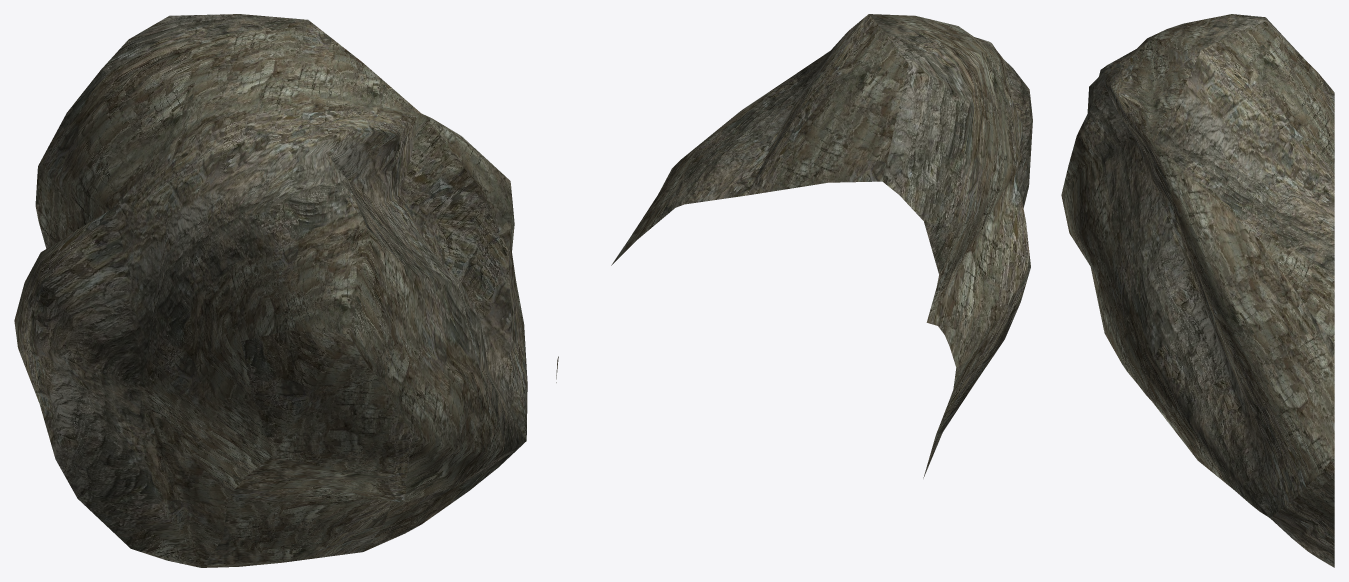
File: duhoc_halfrock4.glb
3 renders of one model, left to right at view 1: azimuth 30°, elevation 25°; view 2: azimuth 150°, elevation 25°; view 3: azimuth 270°, elevation 25°, orthographic. The views are drawn at different scales.
Bounding box in the file's own units: 15.14 × 17.27 × 9.35.
Materials: 1 (1 with a texture image).
